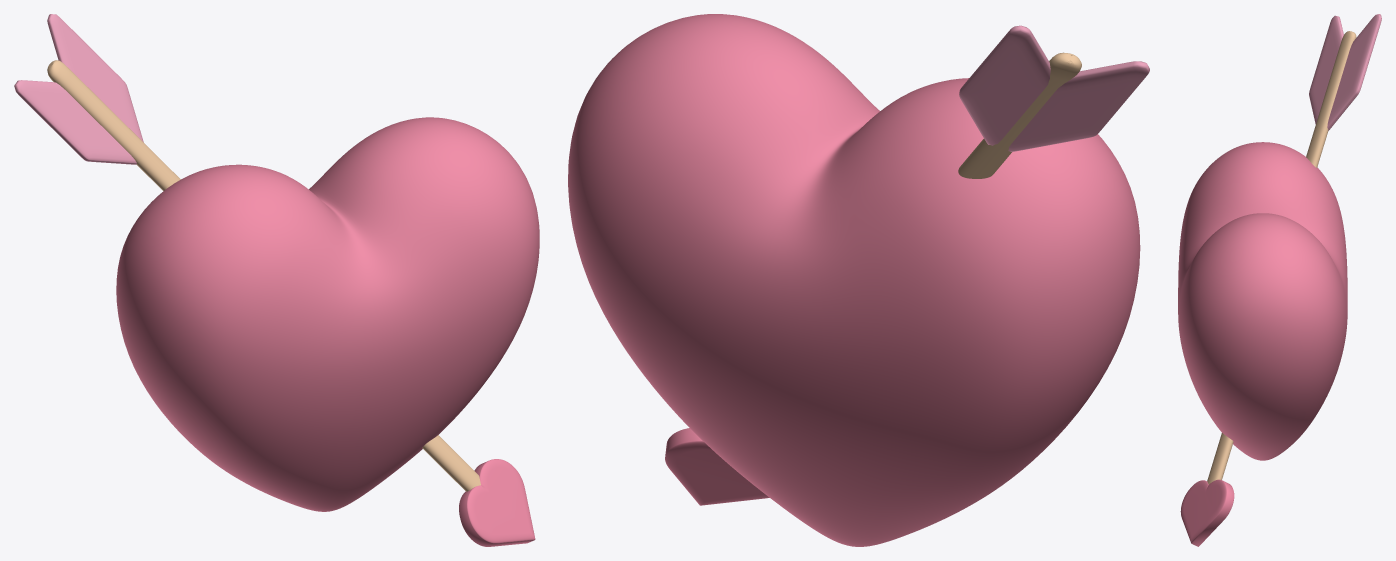
File: heart_with_arrow.glb
3 views of the same model, side by side, from view 1: azimuth 30°, elevation 25°; view 2: azimuth 150°, elevation 25°; view 3: azimuth 270°, elevation 25° (orthographic). The views are drawn at different scales.
Visible parts, largest first — view 1: 0008_01_0, 0008_02_0, 0008_03_0; view 2: 0008_01_0, 0008_02_0, 0008_03_0; view 3: 0008_01_0, 0008_02_0, 0008_03_0.
Part boxes in pixels (<box>): 0008_01_0: <box>116,117,539,546</box>; 0008_02_0: <box>14,14,143,164</box>; 0008_03_0: <box>47,60,480,491</box>; 0008_01_0: <box>568,14,1140,546</box>; 0008_02_0: <box>959,25,1149,151</box>; 0008_03_0: <box>958,52,1081,178</box>; 0008_01_0: <box>1178,142,1347,546</box>; 0008_02_0: <box>1309,14,1381,130</box>; 0008_03_0: <box>1207,31,1356,484</box>.
Size of the model in its own units: 2.47 by 2.7 by 1.25.
